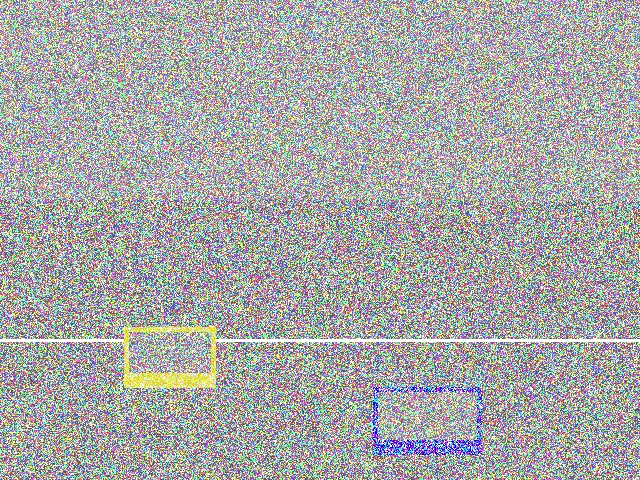bus: (298, 252, 414, 375)
motorcycle: (119, 194, 285, 296)
